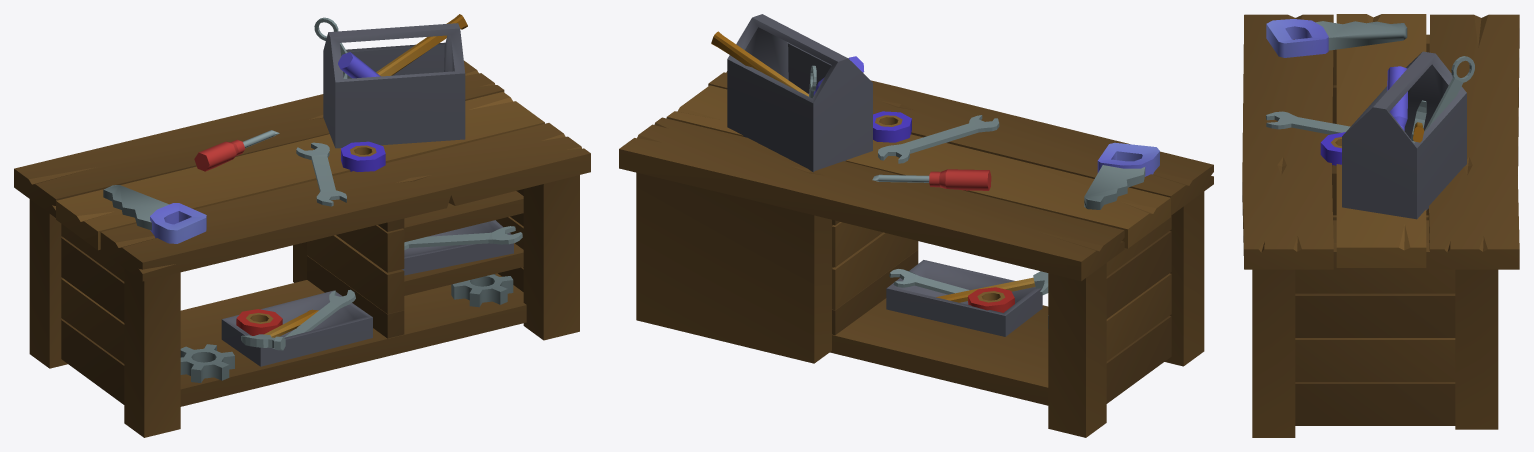
File: WorkBench.fbx
The picture shows the model from 3 angles, left to right: view 1: azimuth 30°, elevation 25°; view 2: azimuth 150°, elevation 25°; view 3: azimuth 270°, elevation 25°; orthographic projection. The views are drawn at different scales.
Visible parts, largest first — view 1: WorkBench.002; view 2: WorkBench.002; view 3: WorkBench.002.
Boxes of the visible parts, left/top/right/bottom form: WorkBench.002: left=14, top=14, right=590, bottom=437; WorkBench.002: left=619, top=14, right=1213, bottom=437; WorkBench.002: left=1242, top=14, right=1519, bottom=437.
Size of the model in its own units: 251 by 149 by 125.
